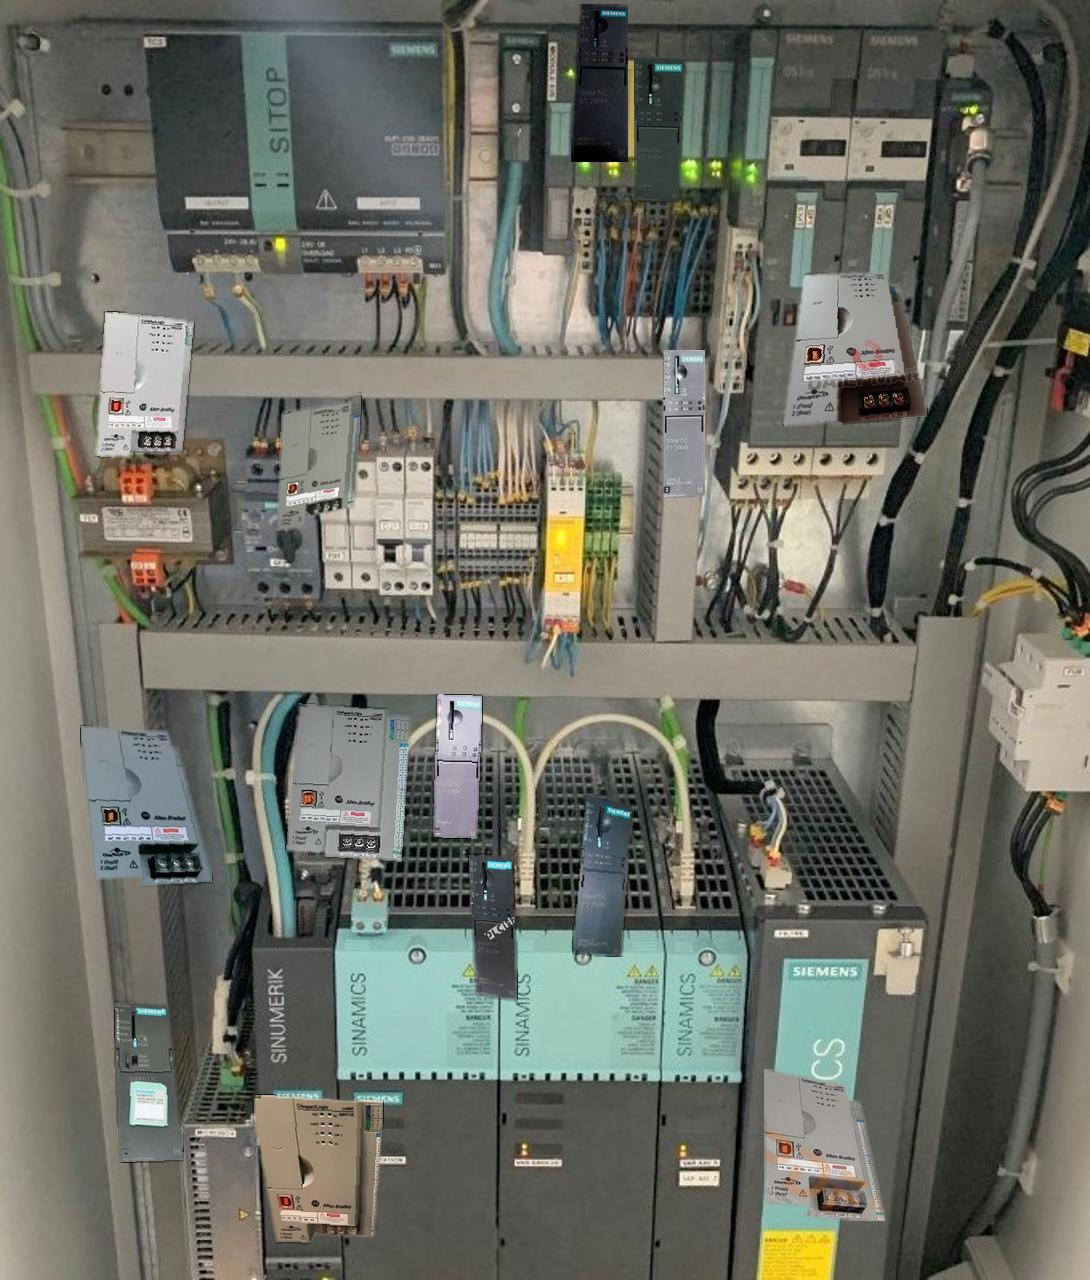AllenBradley: (784, 272, 926, 425), (80, 726, 212, 885), (285, 704, 409, 861), (254, 1095, 382, 1242), (765, 1069, 883, 1219), (96, 311, 192, 456), (277, 394, 361, 530)
Siemens: (114, 1002, 183, 1161)
